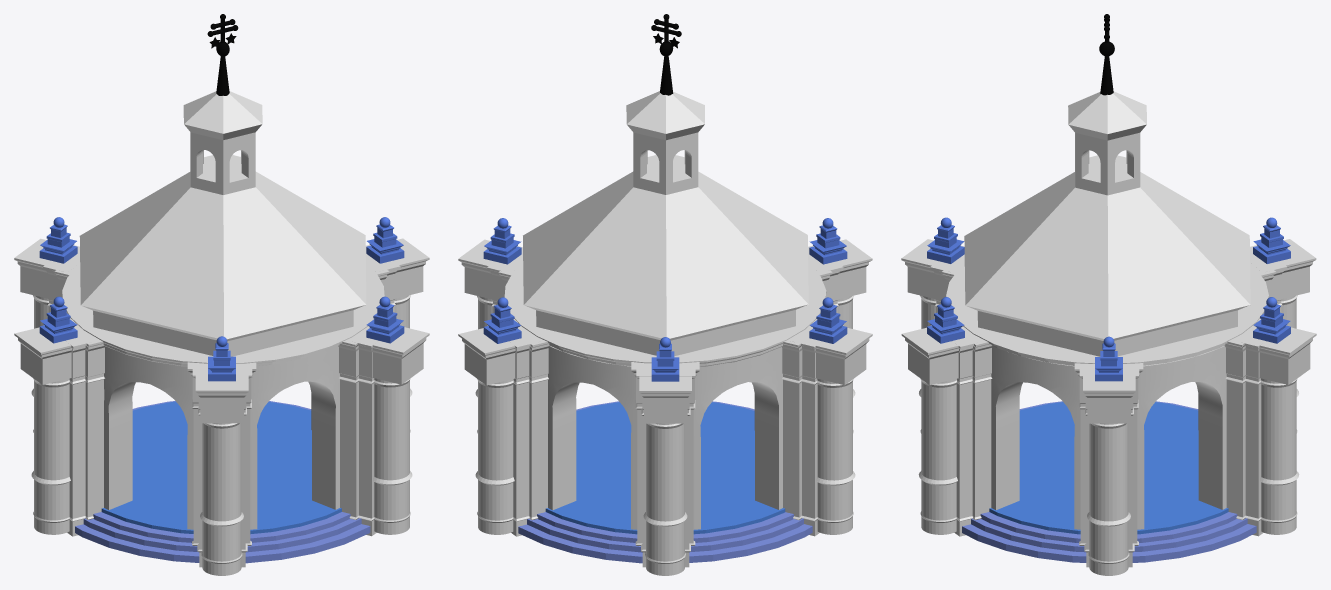
Rendered from Templete3.fbx.
3 views of the same model, side by side, from view 1: azimuth 30°, elevation 25°; view 2: azimuth 150°, elevation 25°; view 3: azimuth 270°, elevation 25° (orthographic).
Visible parts, largest first — view 1: Techo, Plataforma, Pilar.003, Pilar.005, Paredes, Pilar.004, Pilar.002, Pilar.006, Cylinder; view 2: Techo, Plataforma, Pilar.003, Pilar.001, Paredes, Pilar.002, Pilar.006, Pilar.004, Cylinder; view 3: Techo, Plataforma, Pilar.001, Pilar.005, Paredes, Pilar.006, Pilar.002, Pilar.004, Cylinder.
Part boxes in pixels (left/top/right/bottom): Techo: left=62, top=91, right=384, bottom=366; Plataforma: left=75, top=401, right=370, bottom=563; Pilar.003: left=14, top=296, right=105, bottom=536; Pilar.005: left=338, top=296, right=429, bottom=536; Paredes: left=104, top=346, right=339, bottom=529; Pilar.004: left=187, top=336, right=256, bottom=575; Pilar.002: left=14, top=217, right=80, bottom=432; Pilar.006: left=365, top=217, right=429, bottom=432; Cylinder: left=207, top=14, right=238, bottom=95; Techo: left=504, top=91, right=826, bottom=366; Plataforma: left=518, top=401, right=812, bottom=563; Pilar.003: left=782, top=297, right=872, bottom=536; Pilar.001: left=458, top=297, right=549, bottom=536; Paredes: left=548, top=346, right=782, bottom=529; Pilar.002: left=631, top=337, right=699, bottom=575; Pilar.006: left=458, top=218, right=523, bottom=433; Pilar.004: left=808, top=218, right=872, bottom=433; Cylinder: left=651, top=14, right=681, bottom=95; Techo: left=946, top=91, right=1268, bottom=365; Plataforma: left=962, top=401, right=1256, bottom=562; Pilar.001: left=1224, top=297, right=1316, bottom=536; Pilar.005: left=901, top=297, right=992, bottom=536; Paredes: left=991, top=346, right=1226, bottom=529; Pilar.006: left=1074, top=336, right=1143, bottom=575; Pilar.002: left=1250, top=217, right=1316, bottom=433; Pilar.004: left=901, top=217, right=964, bottom=433; Cylinder: left=1099, top=14, right=1114, bottom=95.
Size of the model in its own units: 4118 by 4806 by 3811.
